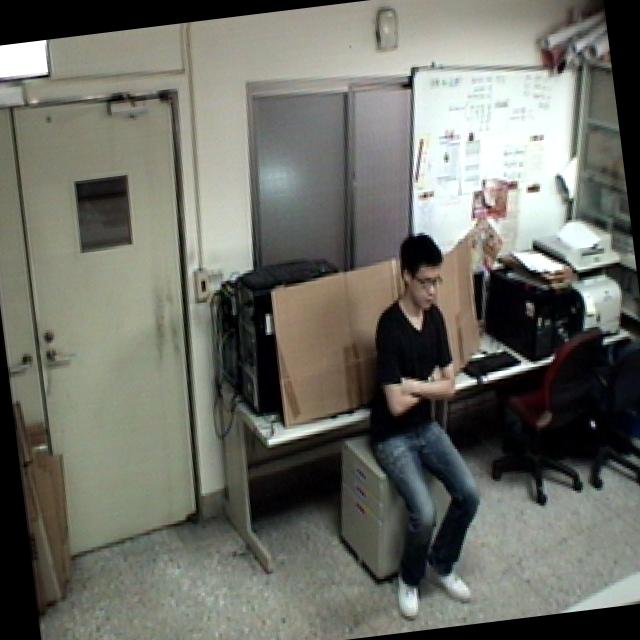sit: (338, 223, 504, 630)
